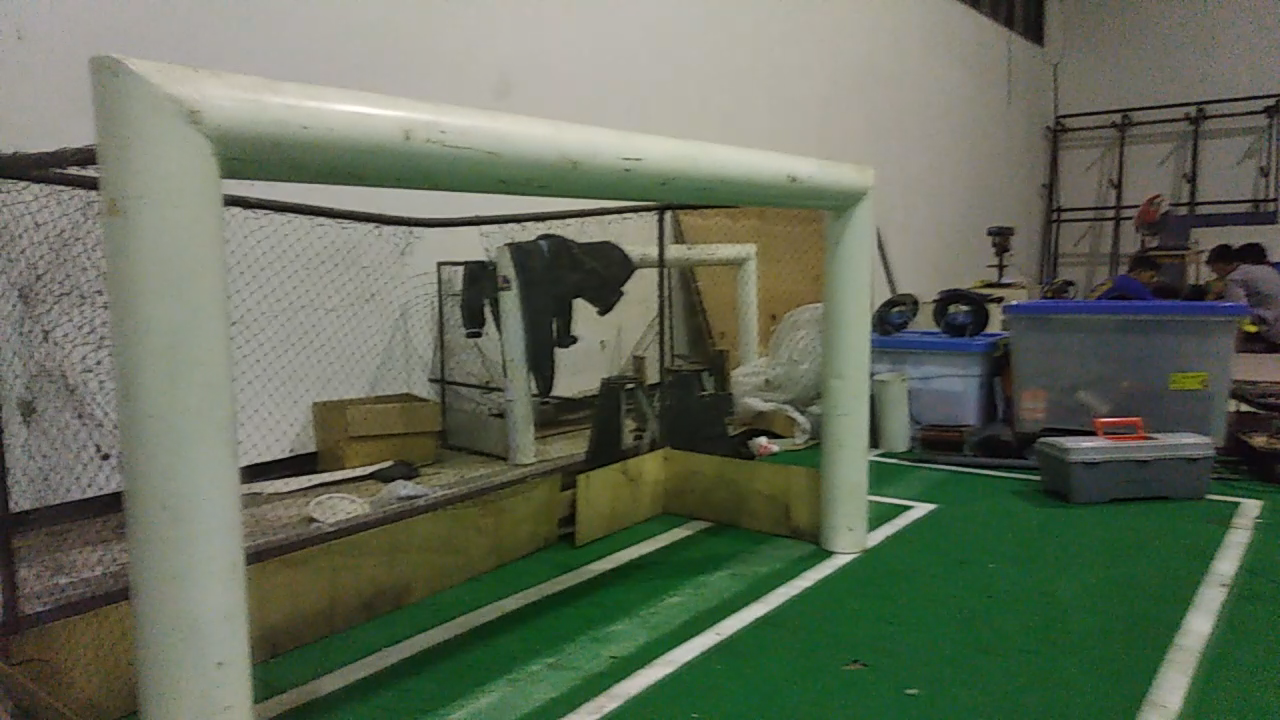gawang: (72, 35, 910, 719)
